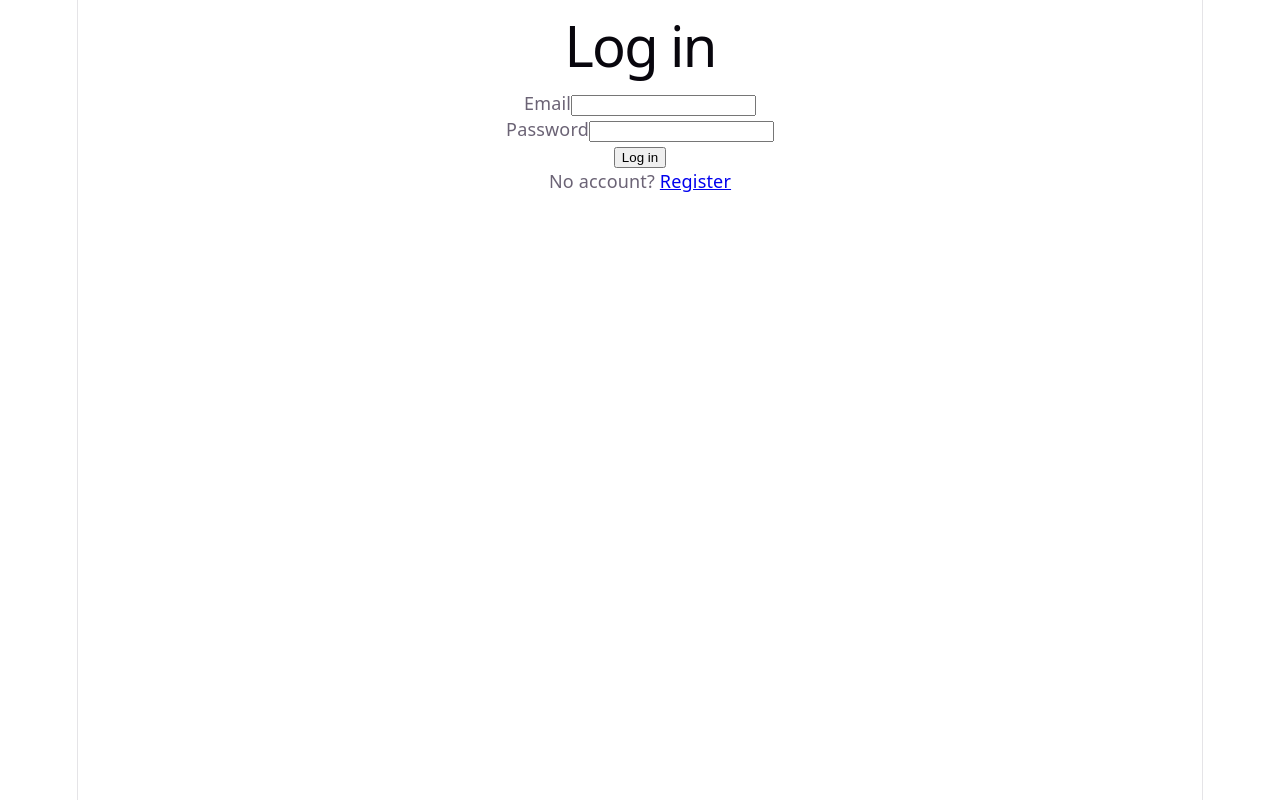
it: LoginPage › shows the server's error message on failed login
The width and height of the screenshot is (1280, 800).
Type "consumer@example.com" into the field labelled "Email" at [664, 106], box [571,95,756,116]
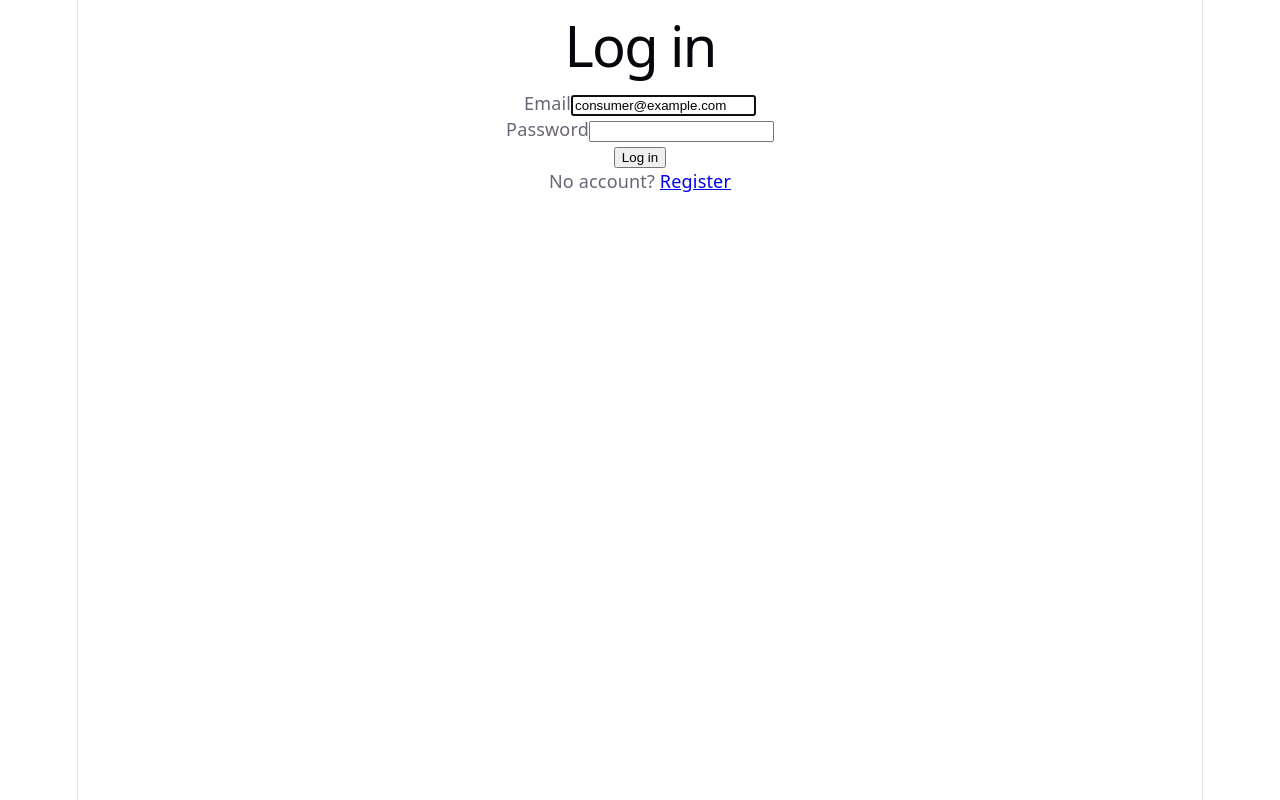
Type "wrong" into the password field labelled "Password" at [681, 132], box [589,121,774,142]
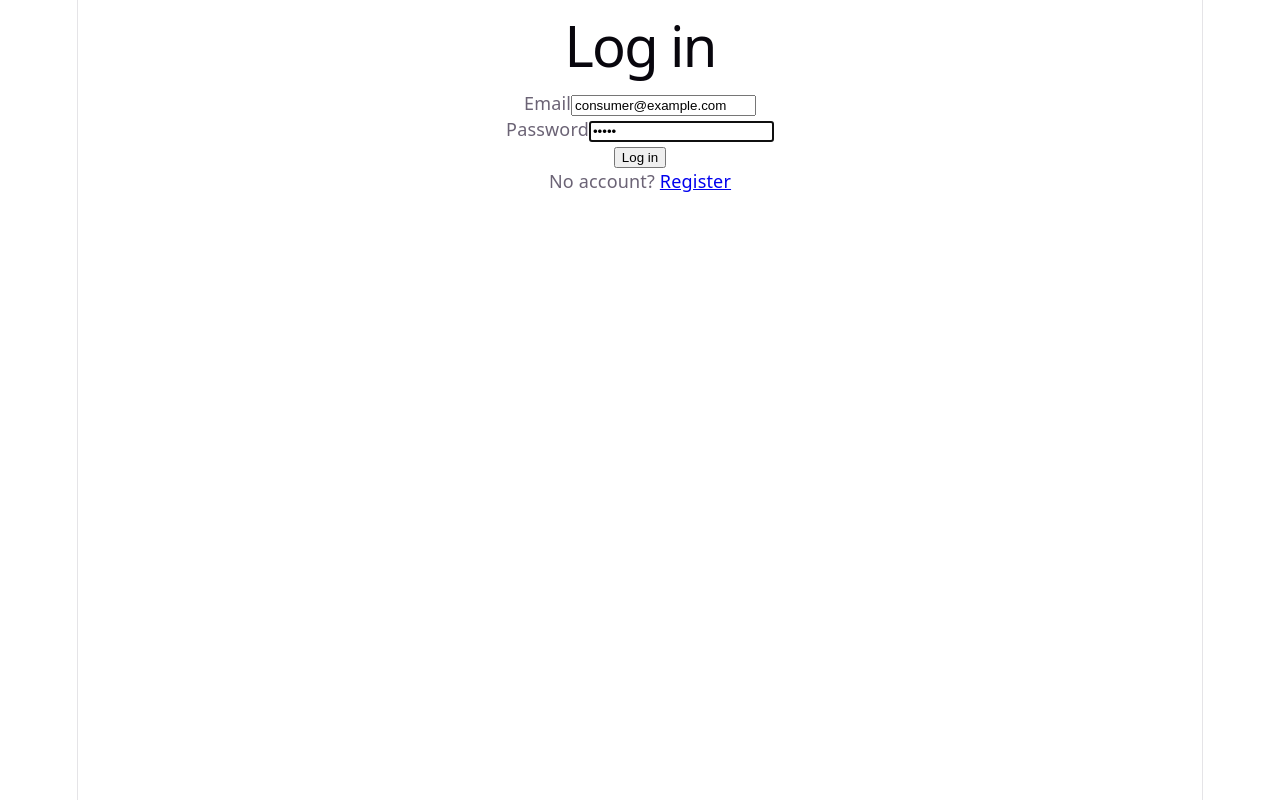
Click the button "Log in" at [640, 158], box [614,147,666,168]
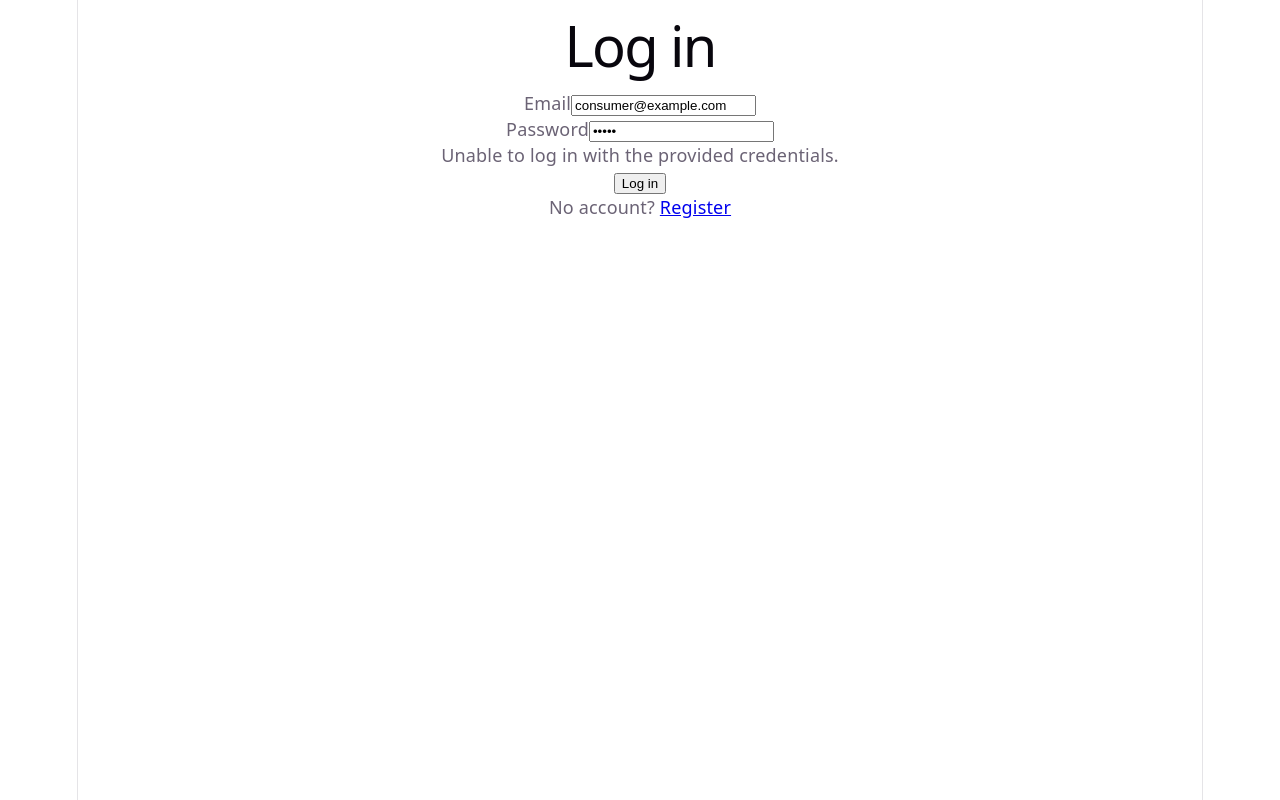
Expected: the message reads "Unable to log in with the provided credentials.", [441,143,839,167]
